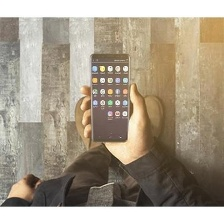phone: (88, 50, 132, 144)
